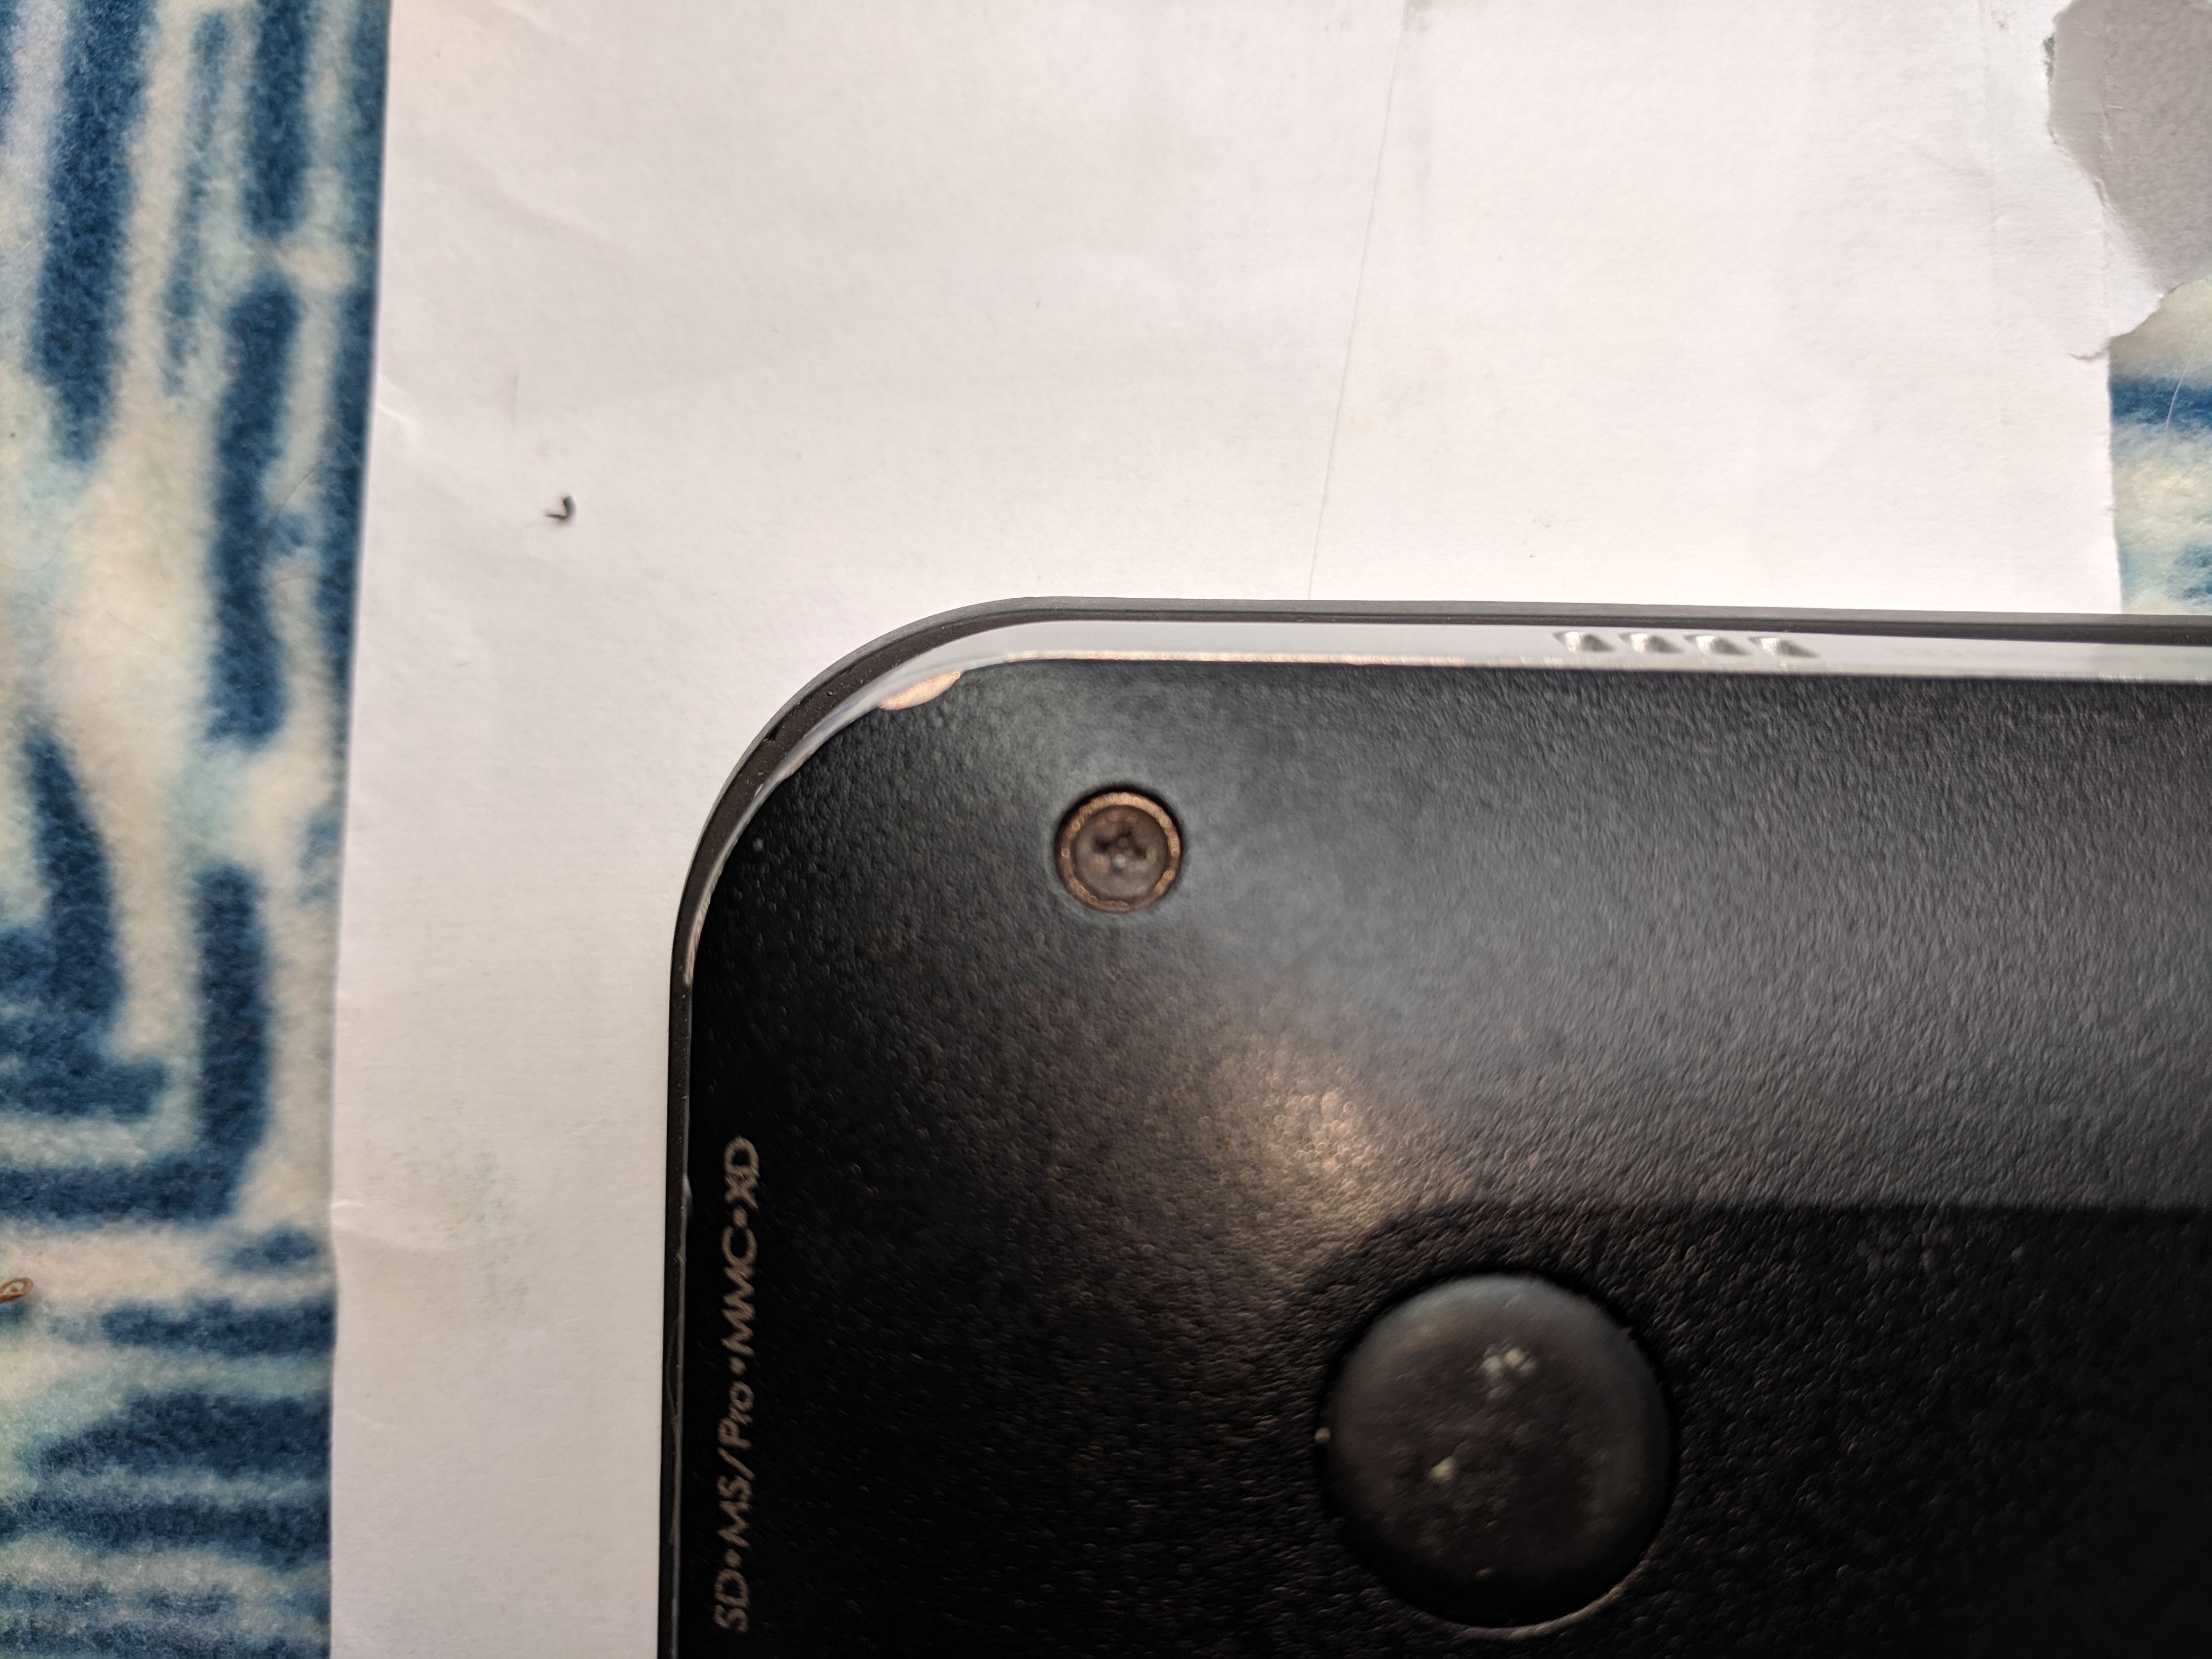cross_recessed_screw: (1057, 1188, 1153, 1293), (1028, 296, 1092, 357)
